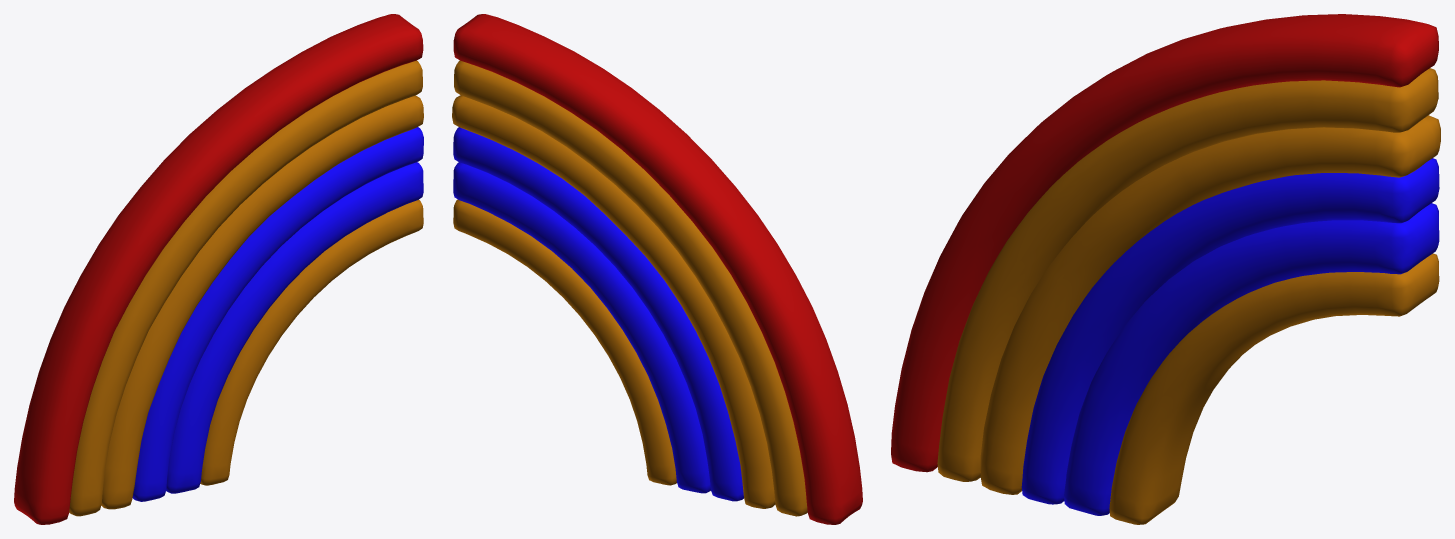
Rendered from rainbow.FBX.
The picture shows the model from 3 angles, left to right: view 1: azimuth 30°, elevation 25°; view 2: azimuth 150°, elevation 25°; view 3: azimuth 330°, elevation 25°; orthographic projection. The views are drawn at different scales.
Parts seen in each view (by area): view 1: rainbow, R2, R3, R4, R5, R6; view 2: rainbow, R2, R3, R4, R5, R6; view 3: rainbow, R2, R3, R4, R5, R6.
Part boxes in pixels (box(x1,y1,x2,y2)): rainbow: box(14, 14, 423, 524); R2: box(69, 60, 422, 516); R3: box(101, 95, 423, 509); R4: box(132, 127, 423, 501); R5: box(166, 162, 423, 493); R6: box(200, 199, 423, 485); rainbow: box(453, 14, 862, 524); R2: box(454, 60, 807, 516); R3: box(452, 95, 775, 508); R4: box(453, 127, 743, 501); R5: box(453, 162, 710, 493); R6: box(453, 199, 676, 485); rainbow: box(891, 14, 1438, 472); R2: box(937, 68, 1438, 481); R3: box(980, 115, 1440, 494); R4: box(1021, 158, 1439, 504); R5: box(1064, 203, 1439, 515); R6: box(1109, 253, 1439, 524).
Bounding box in the file's own units: 37.64 × 37.67 × 5.53.
